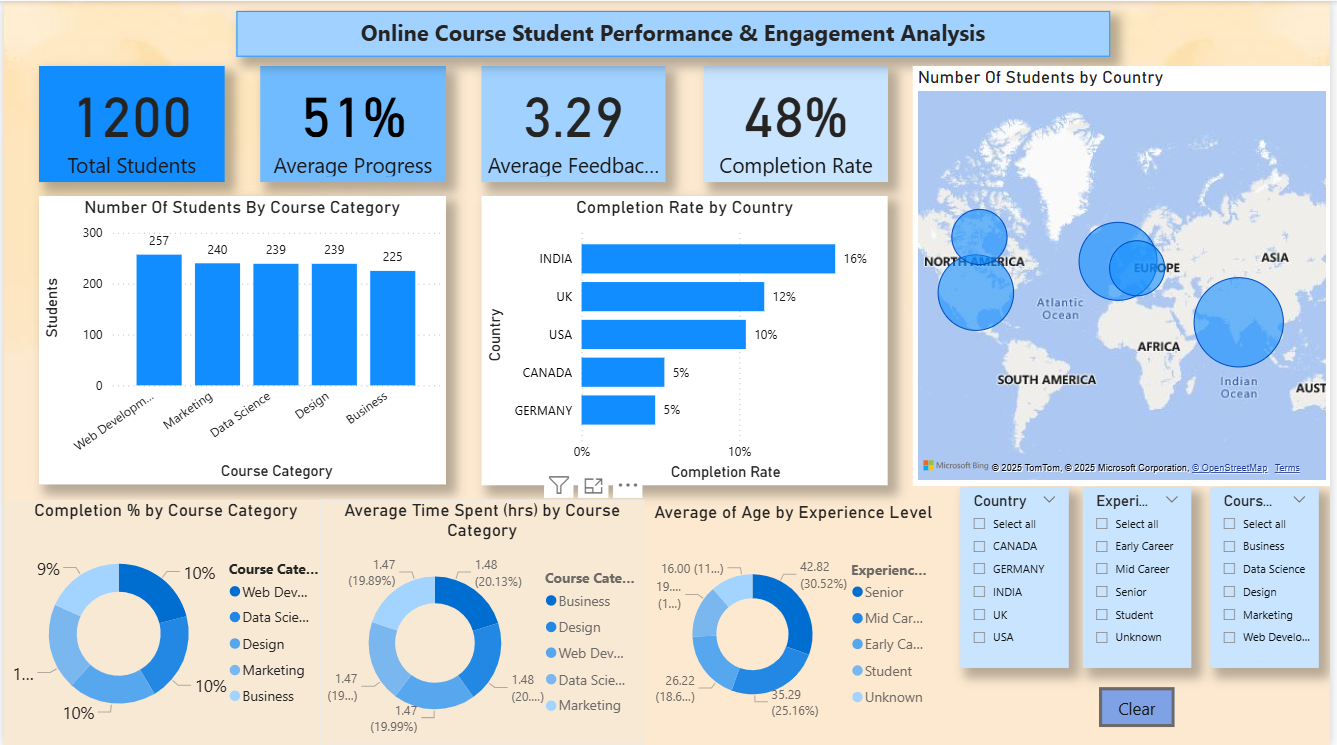

The dashboard page shown, as its layout file describes it:
{"tool":"powerbi","page":{"name":"Analysis Dashboard 1","canvas":[1280,720],"ordinal":0},"visuals":[{"type":"card","fields":{"Values":["Cleaned Data.Total Students"]},"box":[33.8,62.3,179.2,111.7],"z":0},{"type":"card","fields":{"Values":["Avg(Cleaned Data.Progress (%))"]},"box":[246.8,62.3,179.2,111.7],"z":1000},{"type":"card","fields":{"Values":["Avg(Cleaned Data.Feedback Rating)"]},"box":[461,62.3,177.9,111.7],"z":2000},{"type":"card","fields":{"Values":["Cleaned Data.Completion Rate"]},"box":[675.3,62.3,177.9,111.7],"z":3000},{"type":"columnChart","title":"Number Of Students By Course Category","fields":{"Category":["Cleaned Data.Course Category"],"Y":["CountNonNull(Cleaned Data.Student ID)"]},"box":[33.8,188.8,392.5,278.8],"z":4000},{"type":"barChart","fields":{"Category":["Cleaned Data.Country"],"Y":["Cleaned Data.Completion Rate"]},"box":[461,188.3,392.2,279.2],"z":5000},{"type":"slicer","fields":{"Values":["Cleaned Data.Country"]},"box":[923.1,469.2,105.1,174.4],"z":6000},{"type":"slicer","fields":{"Values":["Cleaned Data.Experience Level"]},"box":[1041,469.2,105.1,174.4],"z":7000},{"type":"donutChart","title":"Completion % by Course Category","fields":{"Category":["Cleaned Data.Course Category"],"Y":["Cleaned Data.Completion Rate"]},"box":[0,480.8,312.8,239.7],"z":8000},{"type":"donutChart","title":"Average Time Spent (hrs) by Course Category","fields":{"Category":["Cleaned Data.Course Category"],"Y":["Avg(Cleaned Data.Time Spent (hrs))"]},"box":[305.1,480.8,312.8,238.5],"z":9000},{"type":"slicer","fields":{"Values":["Cleaned Data.Course Category"]},"box":[1164.1,469.2,105.1,174.4],"z":10000},{"type":"textbox","box":[224.7,9.1,842.9,44.2],"z":12000},{"type":"map","fields":{"Category":["Cleaned Data.Country"],"Size":["CountNonNull(Cleaned Data.Student ID)"]},"box":[876.6,62.3,403.9,405.2],"z":13000},{"type":"actionButton","box":[1056.4,662.8,73.1,38.5],"z":14000},{"type":"donutChart","fields":{"Y":["Avg(Cleaned Data.Age)"],"Category":["Cleaned Data.Experience Level"]},"box":[623.1,482.1,282.1,238.5],"z":15000}]}

Visuals, with their boxes in screenshot pixels (x1, y1, x2, y2), scaled from the page's 1280x720 canvas onto the 1337x745 screenshot:
card - Cleaned Data.Total Students: 35,64,222,180
card - Avg(Cleaned Data.Progress (%)): 258,64,445,180
card - Avg(Cleaned Data.Feedback Rating): 482,64,667,180
card - Cleaned Data.Completion Rate: 705,64,891,180
"Number Of Students By Course Category" columnChart: 35,195,445,484
barChart - Cleaned Data.Country x Cleaned Data.Completion Rate: 482,195,891,484
slicer - Cleaned Data.Country: 964,485,1074,666
slicer - Cleaned Data.Experience Level: 1087,485,1197,666
"Completion % by Course Category" donutChart: 0,497,327,744
"Average Time Spent (hrs) by Course Category" donutChart: 319,497,645,744
slicer - Cleaned Data.Course Category: 1216,485,1326,666
textbox: 235,9,1115,55
map - Cleaned Data.Country x CountNonNull(Cleaned Data.Student ID): 916,64,1336,484
actionButton: 1103,686,1180,726
donutChart - Avg(Cleaned Data.Age) x Cleaned Data.Experience Level: 651,499,946,744
